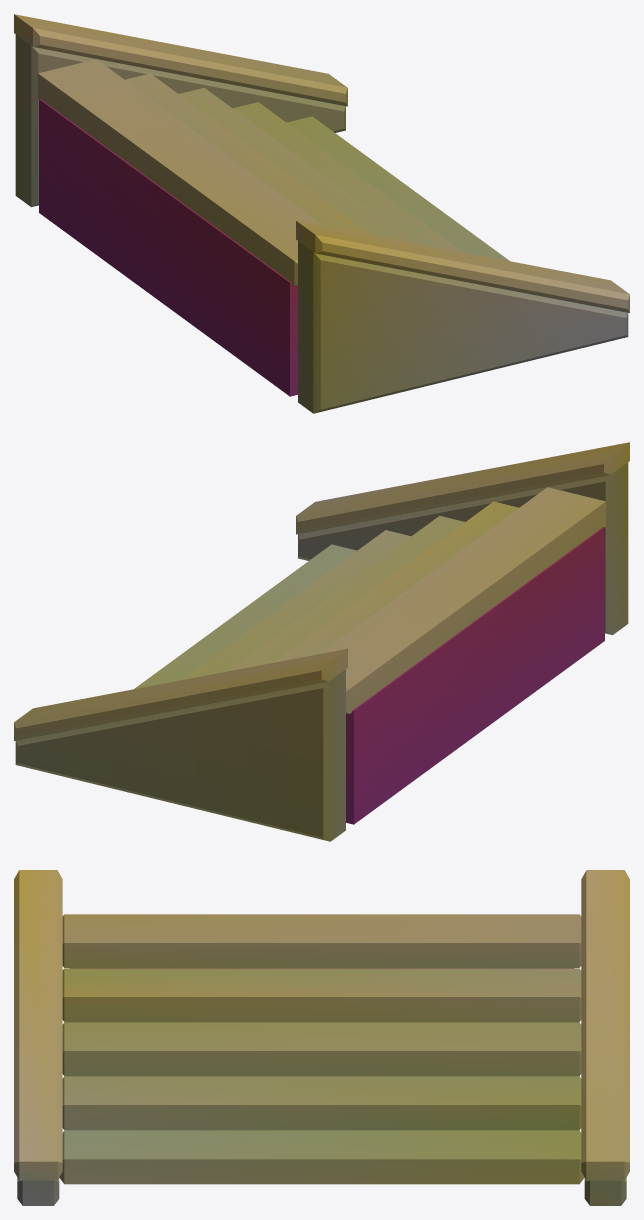
The model's file is Platform_Stairs_End_NoStripe.glb.
3 renders of one model, top to bottom at view 1: azimuth 30°, elevation 25°; view 2: azimuth 150°, elevation 25°; view 3: azimuth 270°, elevation 25°, orthographic.
Parts seen in each view (by area): view 1: Platform_Stairs_End_NoStripe; view 2: Platform_Stairs_End_NoStripe; view 3: Platform_Stairs_End_NoStripe.
Part boxes in pixels (left/top/right/bottom): Platform_Stairs_End_NoStripe: left=14, top=14, right=629, bottom=413; Platform_Stairs_End_NoStripe: left=14, top=442, right=629, bottom=841; Platform_Stairs_End_NoStripe: left=14, top=870, right=629, bottom=1205.
Bounding box in the file's own units: 2.1 × 1.15 × 3.54.
